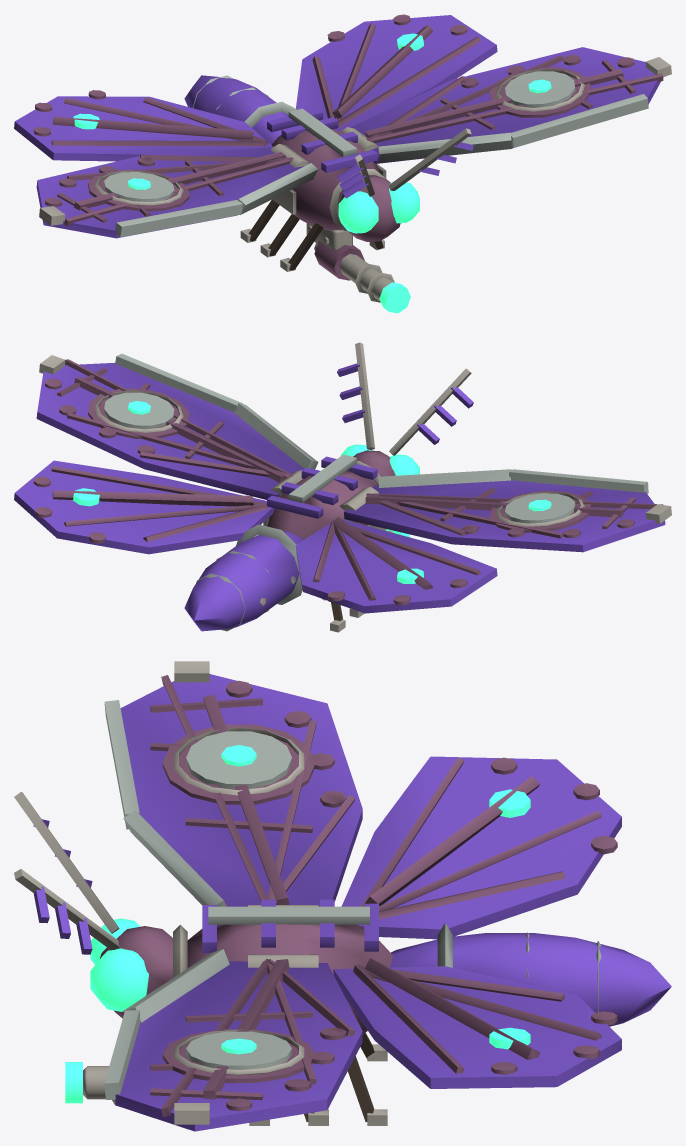
Rendered from moth.glb.
3 renders of one model, top to bottom at view 1: azimuth 30°, elevation 25°; view 2: azimuth 150°, elevation 25°; view 3: azimuth 270°, elevation 25°, orthographic. The views are drawn at different scales.
Parts seen in each view (by area): view 1: Hindwing, Wing, Wing_veins, Wing_spars, Hindwing_veins, Eyespots_team, Thorax, Abdomen, Lens_eyes, Eyespots, Wing_spots, Thorax_ridges (+20 smaller); view 2: Wing, Hindwing, Wing_veins, Abdomen, Wing_spars, Hindwing_veins, Eyespots_team, Thorax, Wing_spots, Eyespots, Thorax_ridges, Antennae (+11 smaller); view 3: Hindwing, Wing, Wing_veins, Abdomen, Hindwing_veins, Wing_spars, Eyespots_team, Thorax, Eyespots, Wing_spots, Lens_eyes, Wing_cross_veins (+16 smaller).
Part boxes in pixels (x1,y1,x2,y2): Hindwing: [14, 15, 497, 161]; Wing: [36, 47, 660, 238]; Wing_veins: [52, 25, 663, 226]; Wing_spars: [115, 94, 648, 237]; Hindwing_veins: [51, 23, 480, 146]; Eyespots_team: [104, 71, 575, 202]; Thorax: [272, 128, 379, 230]; Abdomen: [184, 75, 288, 144]; Lens_eyes: [338, 182, 419, 233]; Eyespots: [88, 67, 590, 211]; Wing_spots: [33, 14, 634, 206]; Thorax_ridges: [267, 109, 377, 172]; Wing: [36, 362, 665, 552]; Hindwing: [14, 460, 497, 613]; Wing_veins: [52, 359, 663, 589]; Abdomen: [184, 531, 302, 631]; Wing_spars: [115, 353, 648, 493]; Hindwing_veins: [51, 466, 480, 600]; Eyespots_team: [104, 392, 575, 523]; Thorax: [267, 470, 375, 539]; Wing_spots: [33, 378, 634, 605]; Eyespots: [88, 388, 591, 532]; Thorax_ridges: [267, 456, 377, 518]; Antennae: [355, 342, 471, 455]; Hindwing: [333, 756, 621, 1088]; Wing: [115, 674, 362, 1131]; Wing_veins: [161, 675, 540, 1116]; Abdomen: [390, 933, 671, 1026]; Hindwing_veins: [353, 757, 601, 1073]; Wing_spars: [104, 700, 229, 1099]; Eyespots_team: [186, 731, 291, 1069]; Thorax: [187, 924, 393, 1034]; Eyespots: [162, 724, 315, 1082]; Wing_spots: [226, 680, 617, 1111]; Lens_eyes: [90, 918, 148, 1011]; Wing_cross_veins: [150, 698, 312, 1100].
Bounding box in the file's own units: 3.63 × 1.04 × 2.23.
